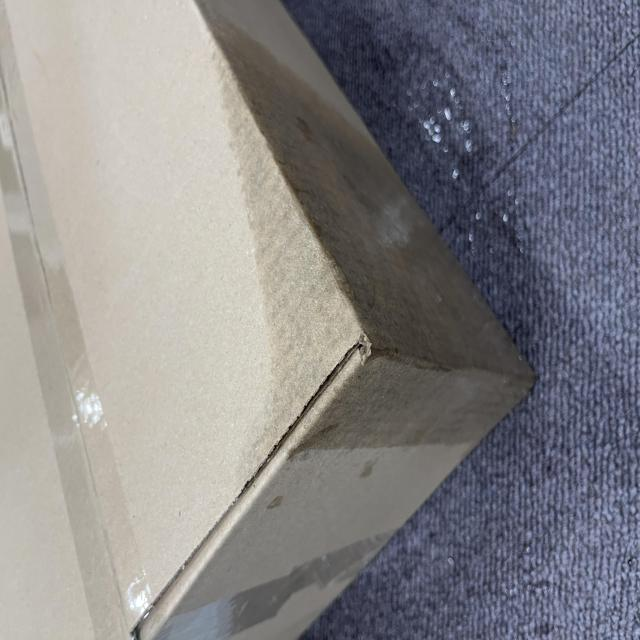wet: (92, 216, 478, 640)
